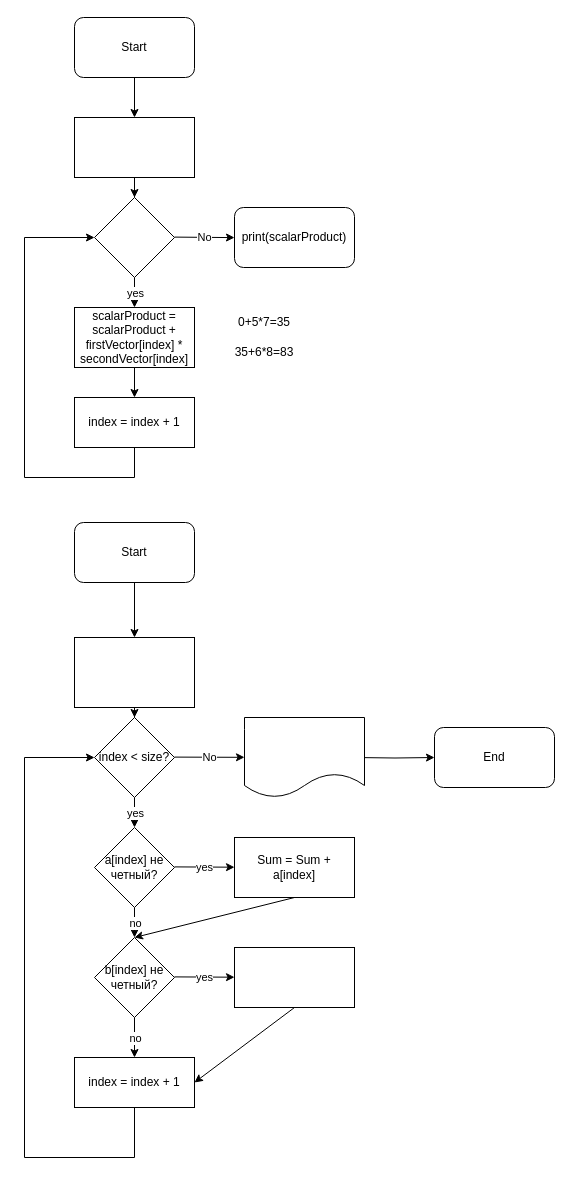
The diagram is 572 pixels wide and 1183 high, and some of its shapes have lost their labels. Here are the shapes that lost their labels. From the top down, the box of each, then its label:
(74, 116, 194, 178): firstVector = [5,6] secondVector = [7,8] scalarProduct = 0 index = 0
(94, 196, 174, 278): index < 2?
(74, 636, 194, 708): a = [5,6] b = [7,8] Sum = 0 index = 0 size = 2
(244, 716, 364, 798): print(Sum)
(234, 946, 354, 1008): Sum = Sum + b[index]
